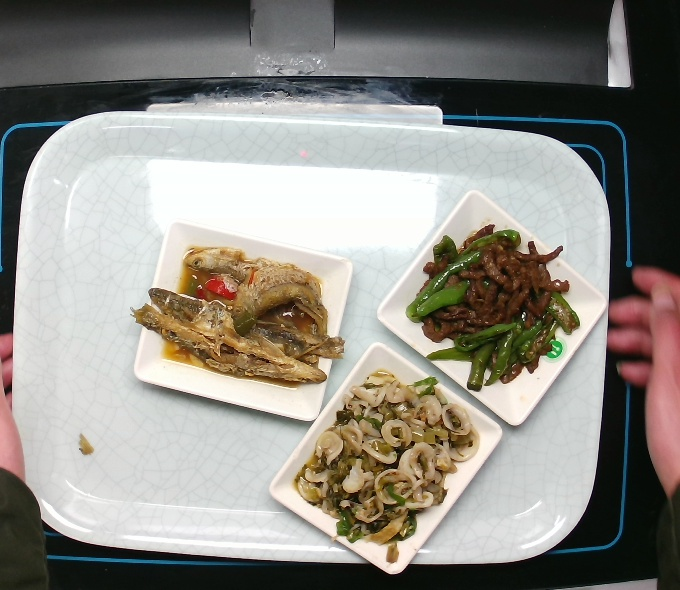wcq-QingJiaoNiuRou: (409, 223, 594, 400)
wcq-XiaoXiYu: (136, 243, 349, 398)
wcq-XueCaiYouYu: (302, 365, 489, 562)
